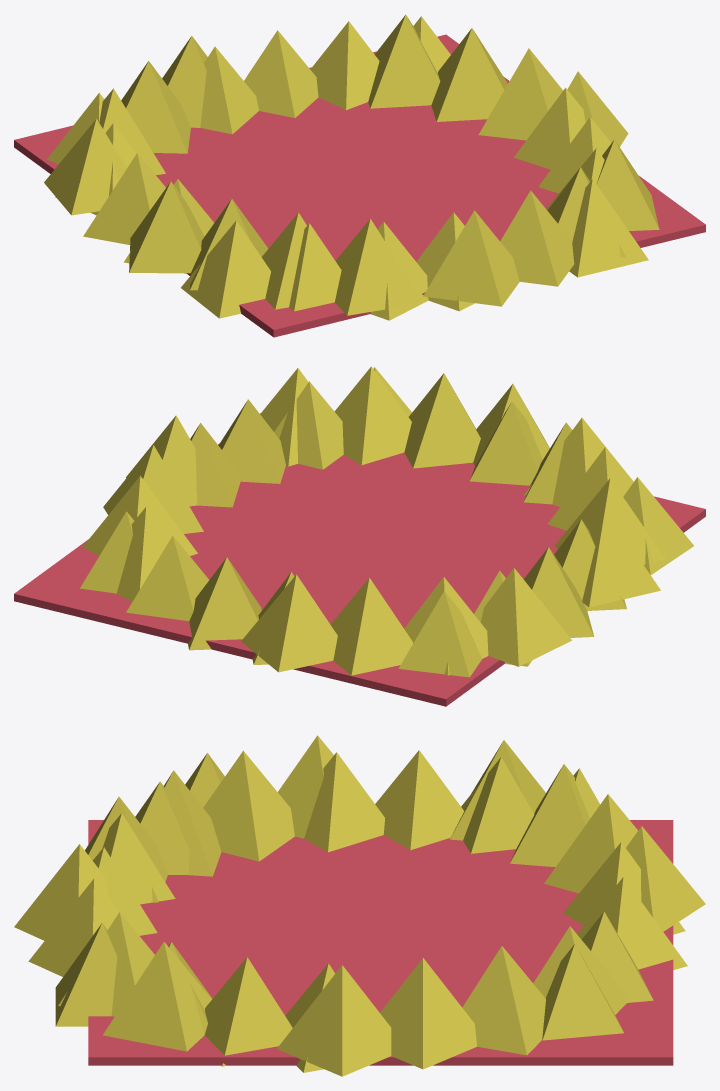
The model's file is Sizzling Waasa-Bojo.glb.
3 renders of one model, top to bottom at view 1: azimuth 30°, elevation 25°; view 2: azimuth 150°, elevation 25°; view 3: azimuth 270°, elevation 25°, orthographic. The views are drawn at different scales.
Visible parts, largest first — view 1: Mesh_Mesh_head_geo.001_lambert2SG.001; view 2: Mesh_Mesh_head_geo.001_lambert2SG.001; view 3: Mesh_Mesh_head_geo.001_lambert2SG.001.
Boxes of the visible parts, left/top/right/bottom form: Mesh_Mesh_head_geo.001_lambert2SG.001: left=14, top=14, right=705, bottom=337; Mesh_Mesh_head_geo.001_lambert2SG.001: left=14, top=366, right=705, bottom=706; Mesh_Mesh_head_geo.001_lambert2SG.001: left=14, top=735, right=705, bottom=1076.
Bounding box in the file's own units: 145 × 22 × 149.
